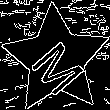M_NE: (23, 26, 89, 93)
